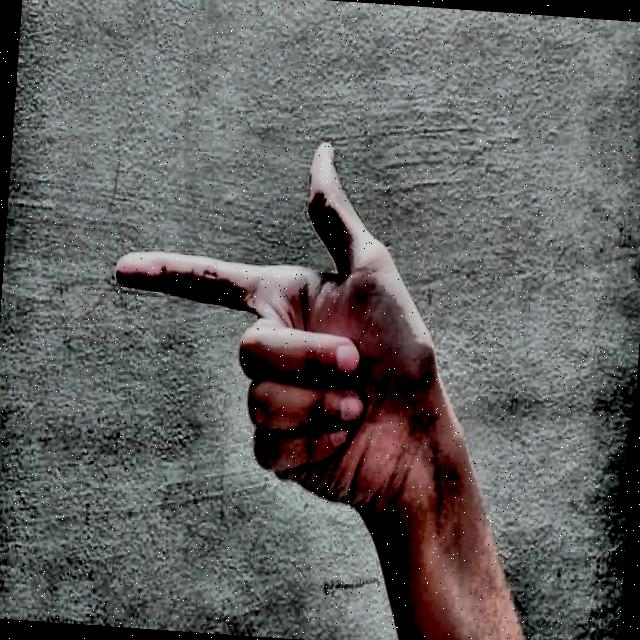Tho: (70, 84, 548, 552)
